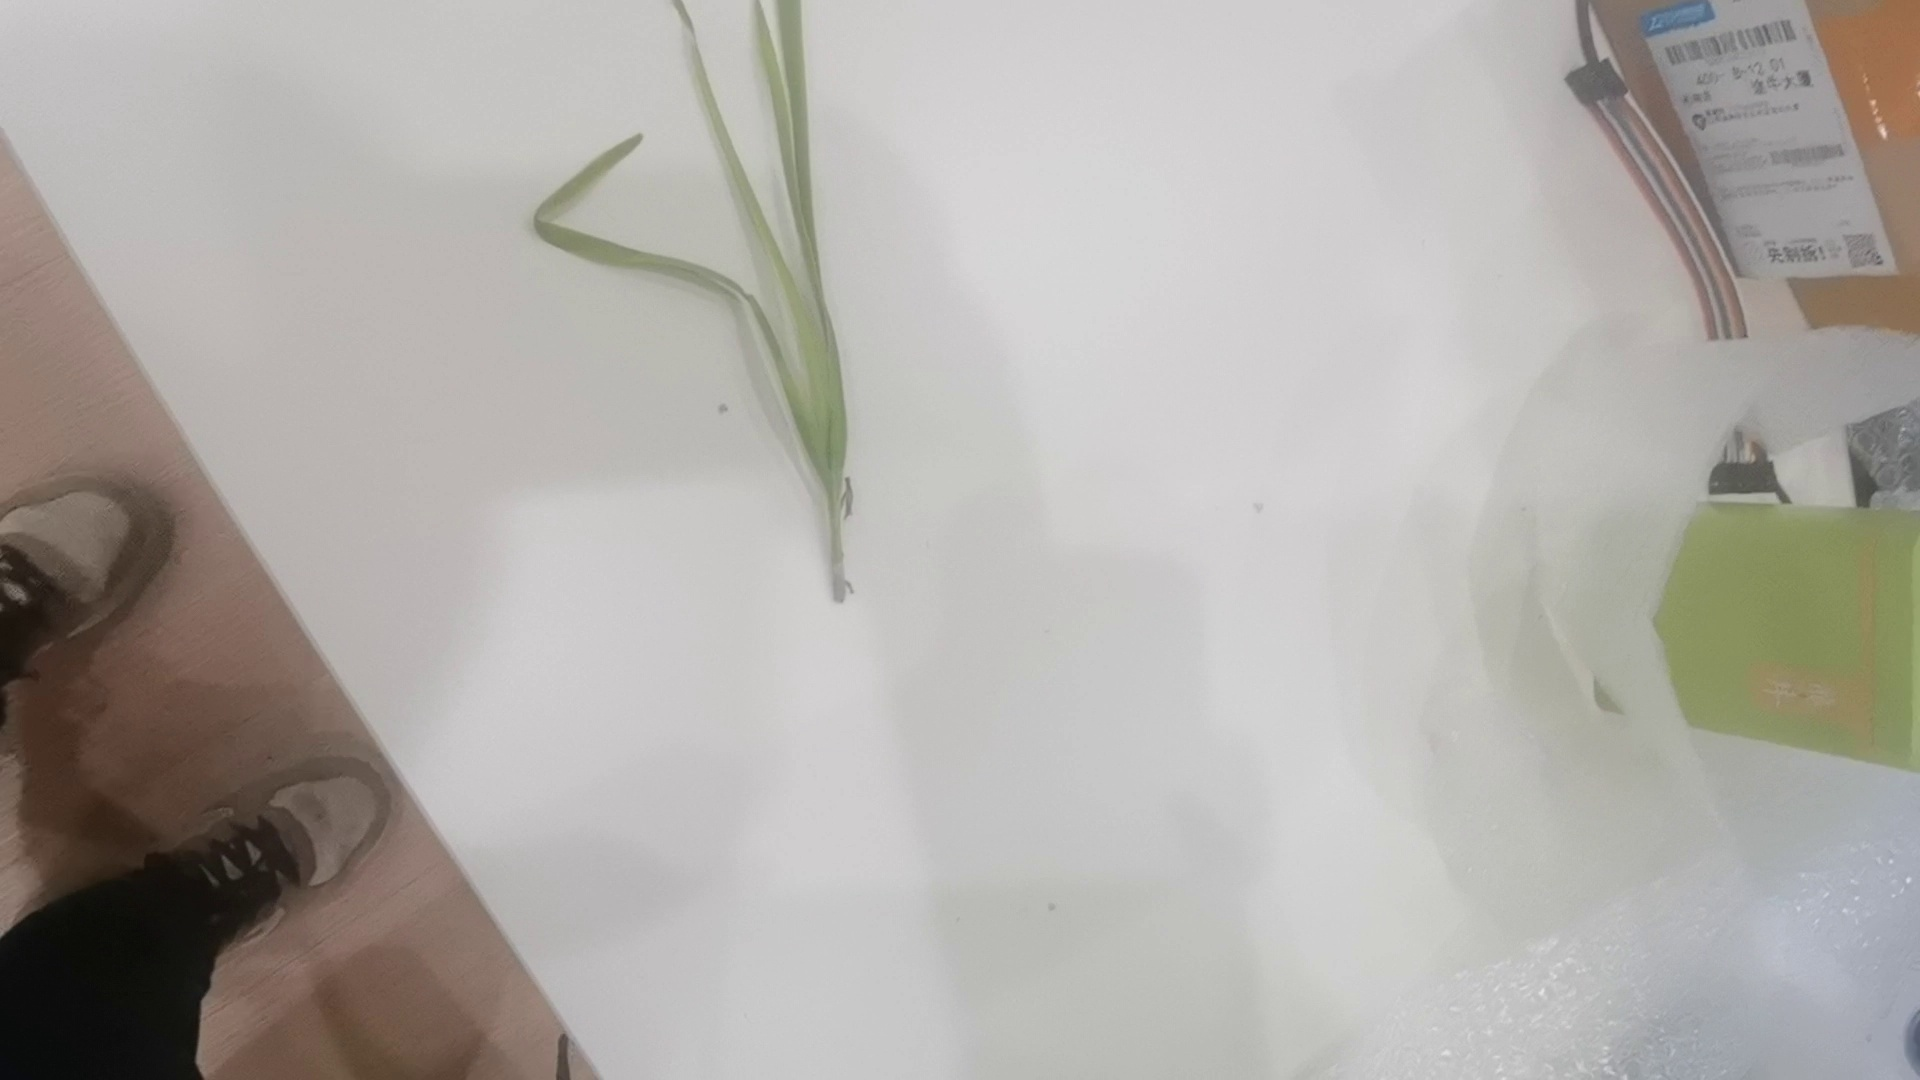chives: (516, 9, 858, 616)
